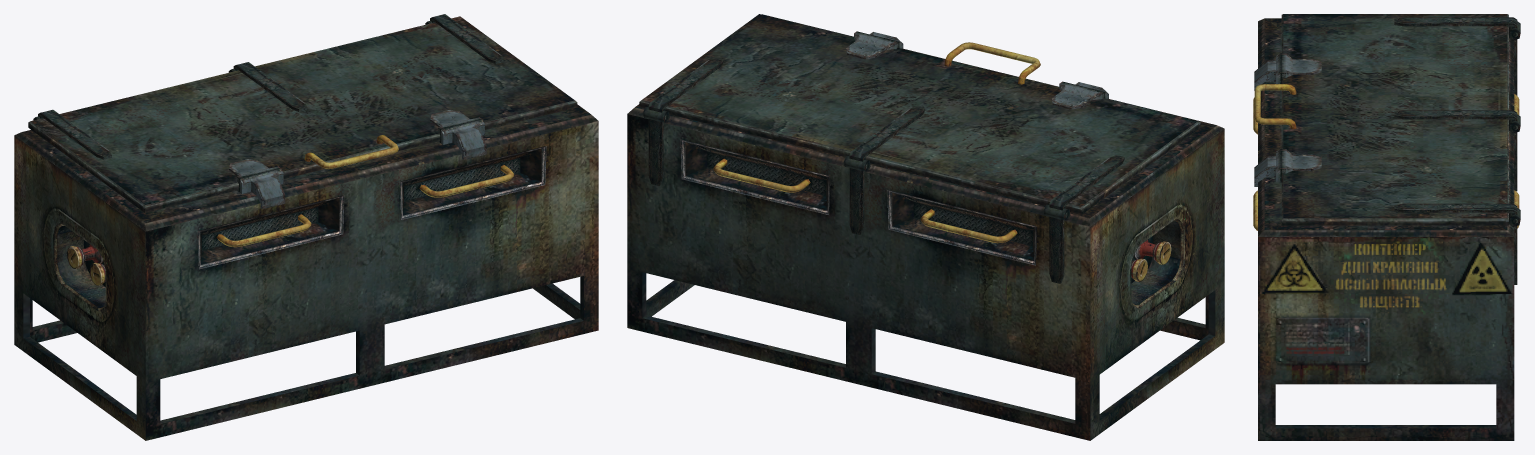
The model's file is prop_dangerbox_ql.glb.
3 renders of one model, left to right at view 1: azimuth 30°, elevation 25°; view 2: azimuth 150°, elevation 25°; view 3: azimuth 270°, elevation 25°, orthographic. The views are drawn at different scales.
Parts seen in each view (by area): view 1: prop_dangerbox_ql.object; view 2: prop_dangerbox_ql.object; view 3: prop_dangerbox_ql.object.
Boxes of the visible parts, x1=… form: prop_dangerbox_ql.object: x1=14, y1=14, x2=598, y2=440; prop_dangerbox_ql.object: x1=627, y1=14, x2=1224, y2=440; prop_dangerbox_ql.object: x1=1253, y1=14, x2=1520, y2=440.
Bounding box in the file's own units: 2.25 × 1.1 × 1.18.
2 materials, 2 textured.
